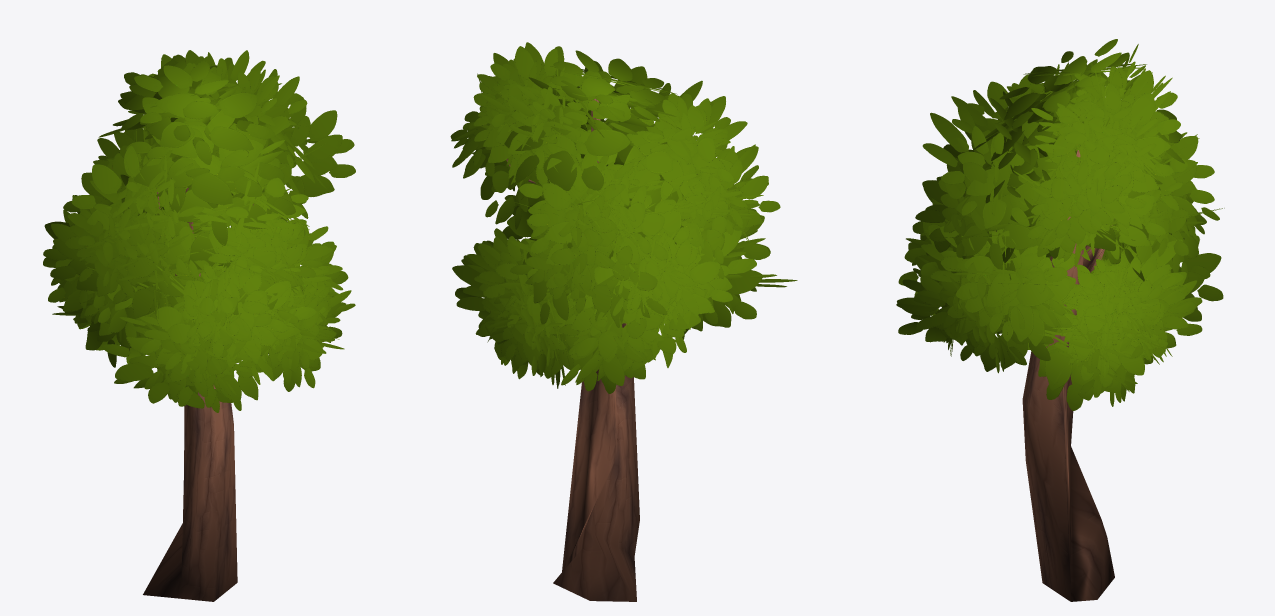
Rendered from commontree_1_1.glb.
The picture shows the model from 3 angles, left to right: view 1: azimuth 30°, elevation 25°; view 2: azimuth 150°, elevation 25°; view 3: azimuth 270°, elevation 25°; orthographic projection. The views are drawn at different scales.
Parts seen in each view (by area): view 1: CommonTree_1; view 2: CommonTree_1; view 3: CommonTree_1.
Part boxes in pixels (x1,y1,x2,y2): CommonTree_1: (43, 50, 355, 601); CommonTree_1: (450, 42, 797, 601); CommonTree_1: (896, 39, 1224, 601).
Bounding box in the file's own units: 4.64 × 7.57 × 4.77.
Materials: 2 (2 with a texture image).
